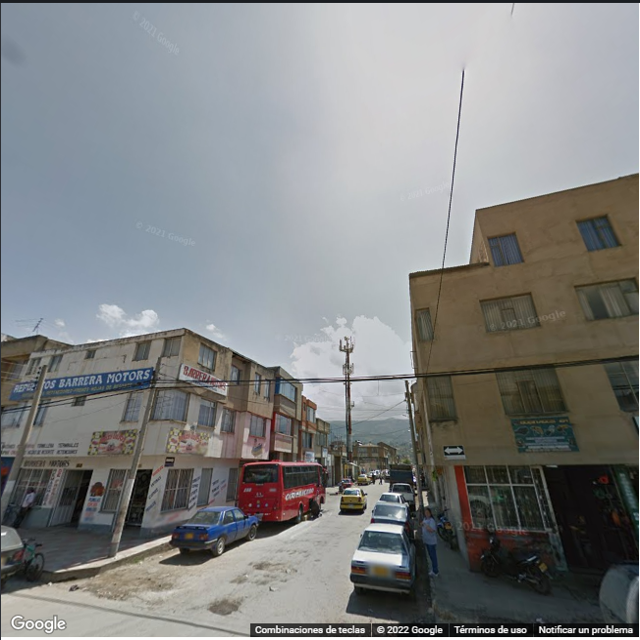D40: (106, 572, 158, 592), (207, 594, 248, 618)
